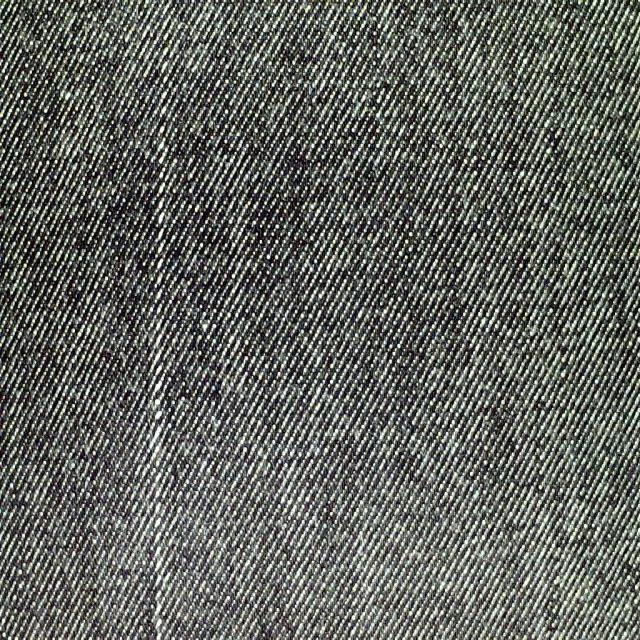defect: (148, 22, 176, 640)
